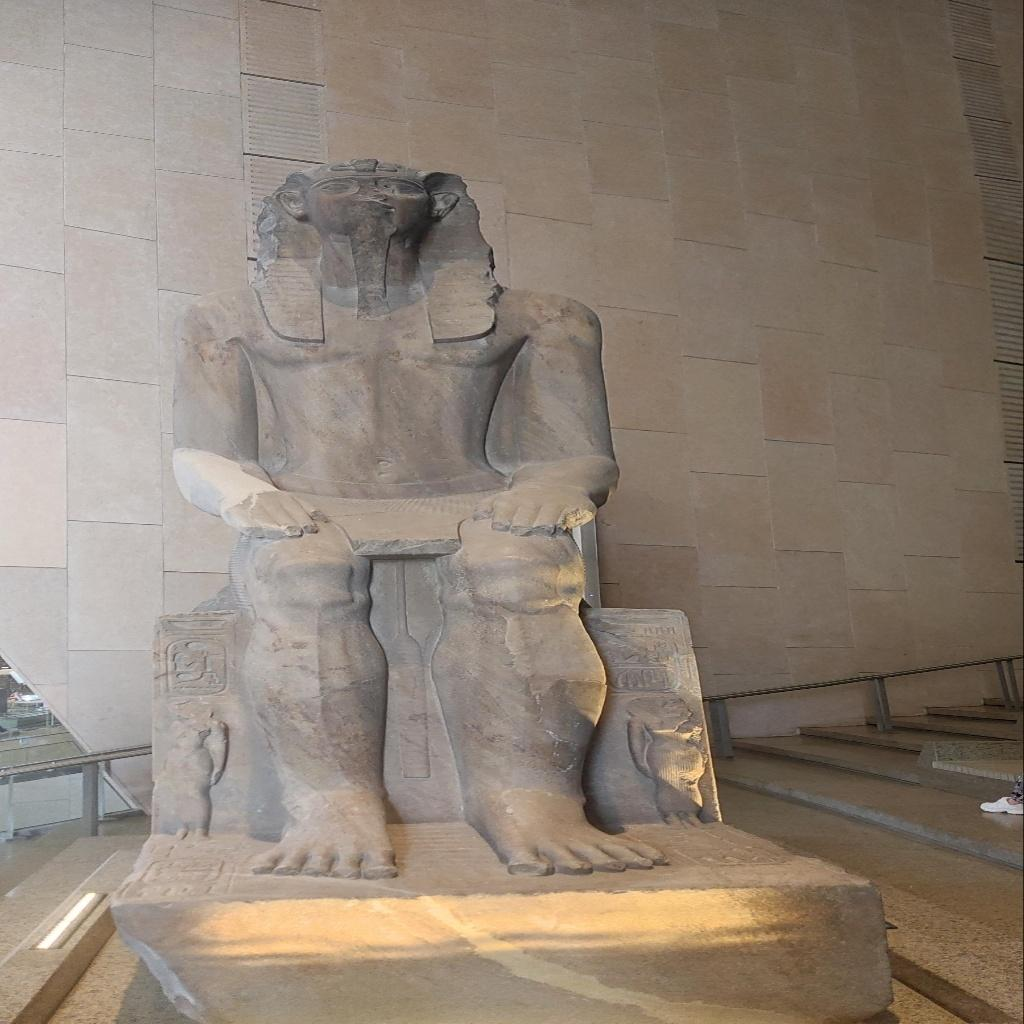Colossal Statue of Middle Kingdom King: (168, 156, 724, 888)
